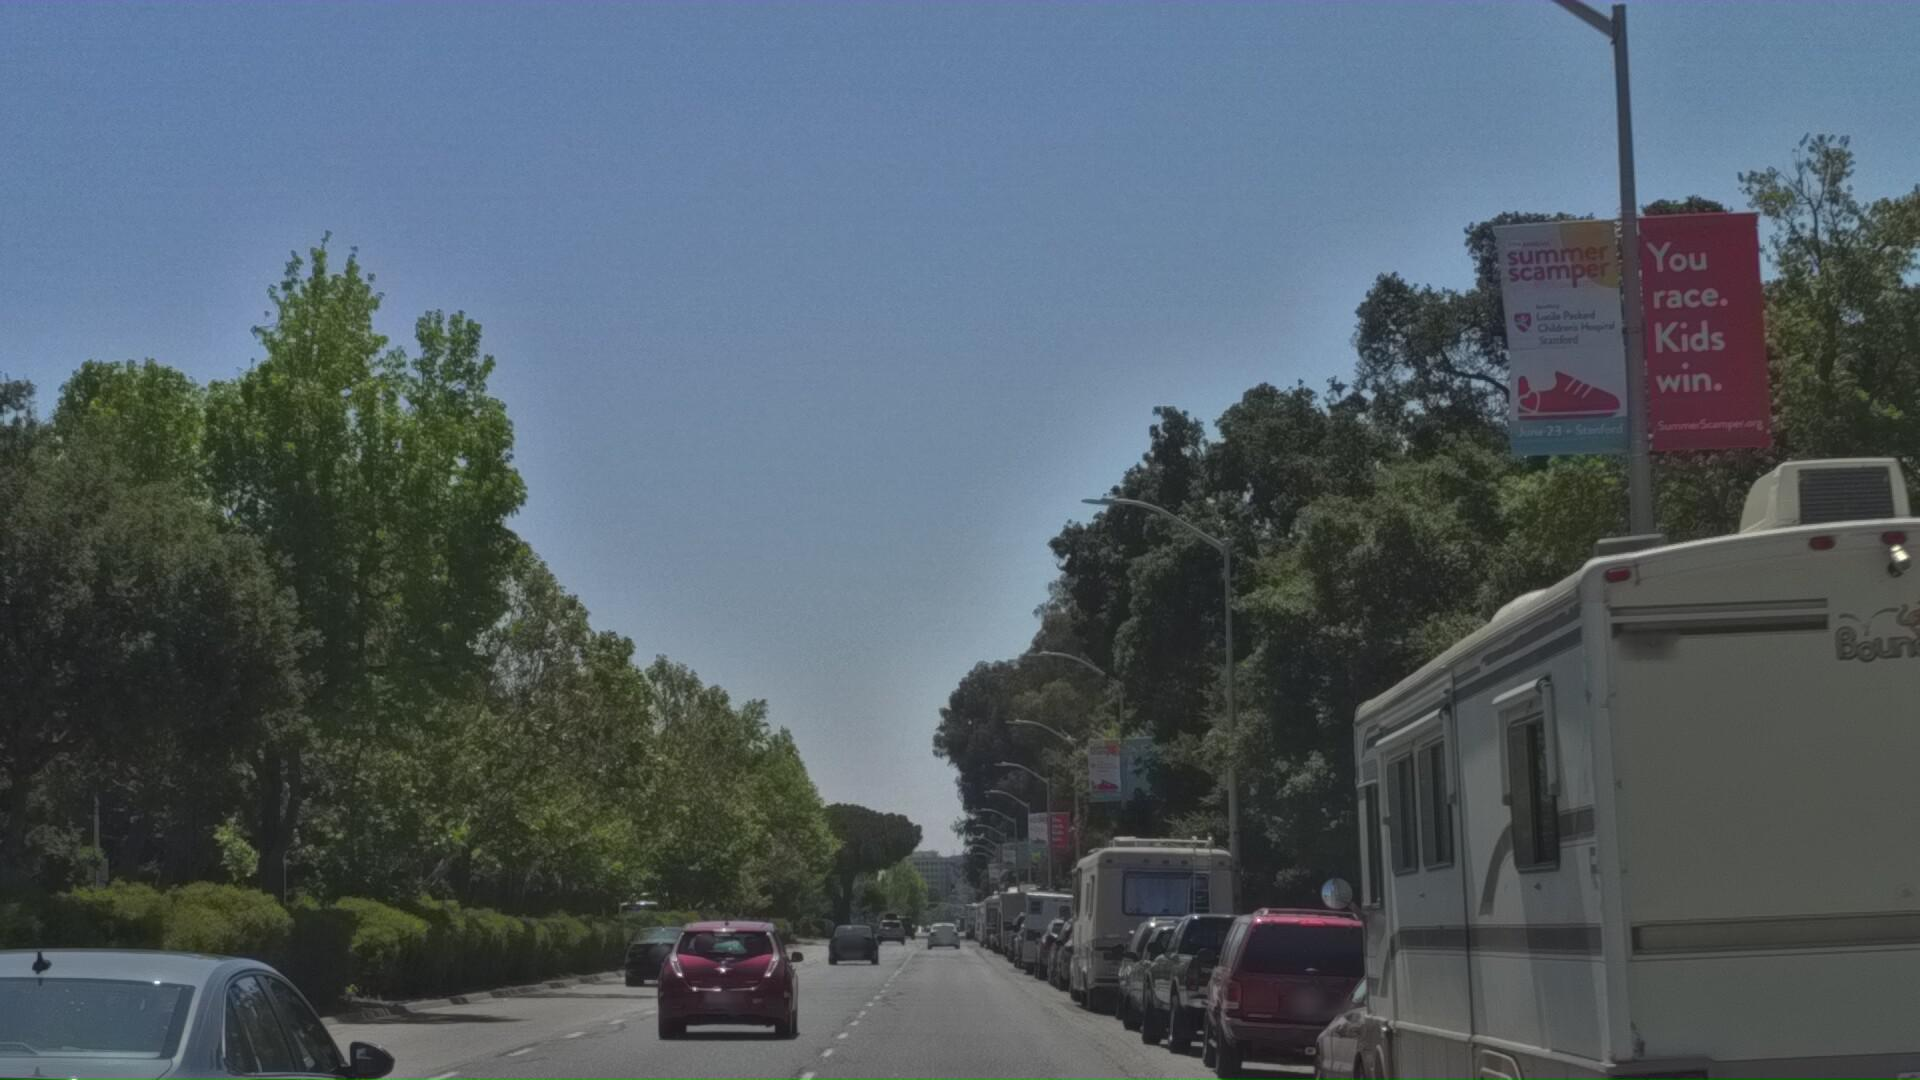car: (0, 959, 438, 1080), (1298, 953, 1664, 1080), (1196, 905, 1414, 1080), (1135, 913, 1346, 1077), (659, 939, 818, 1080), (1731, 963, 1920, 1080), (1118, 928, 1286, 1054), (1113, 922, 1251, 1044), (618, 960, 705, 1029)
other_vehicle: (1328, 328, 1920, 1080), (1062, 840, 1255, 1042)
